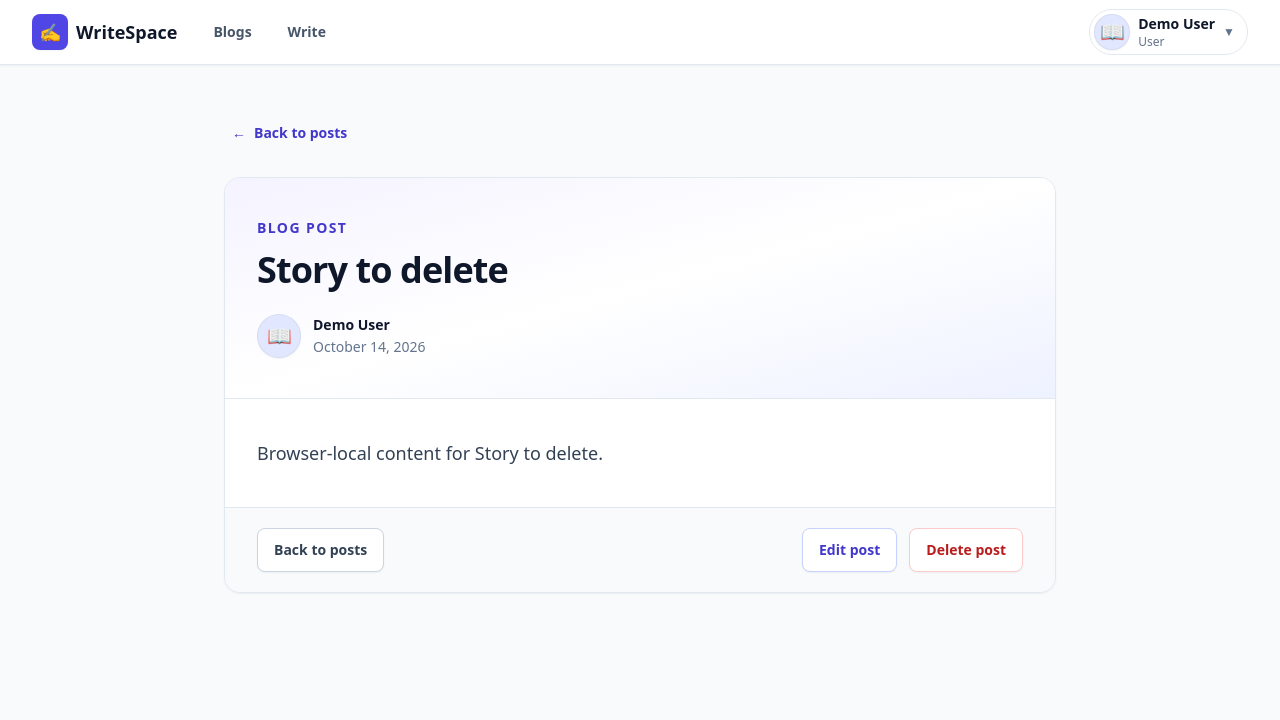
Test case: Blog feature flows › requires deletion confirmation and removes the post only after approval
The image size is (1280, 720).
Click the button "Delete post" at (966, 550), box [909,528,1023,572]
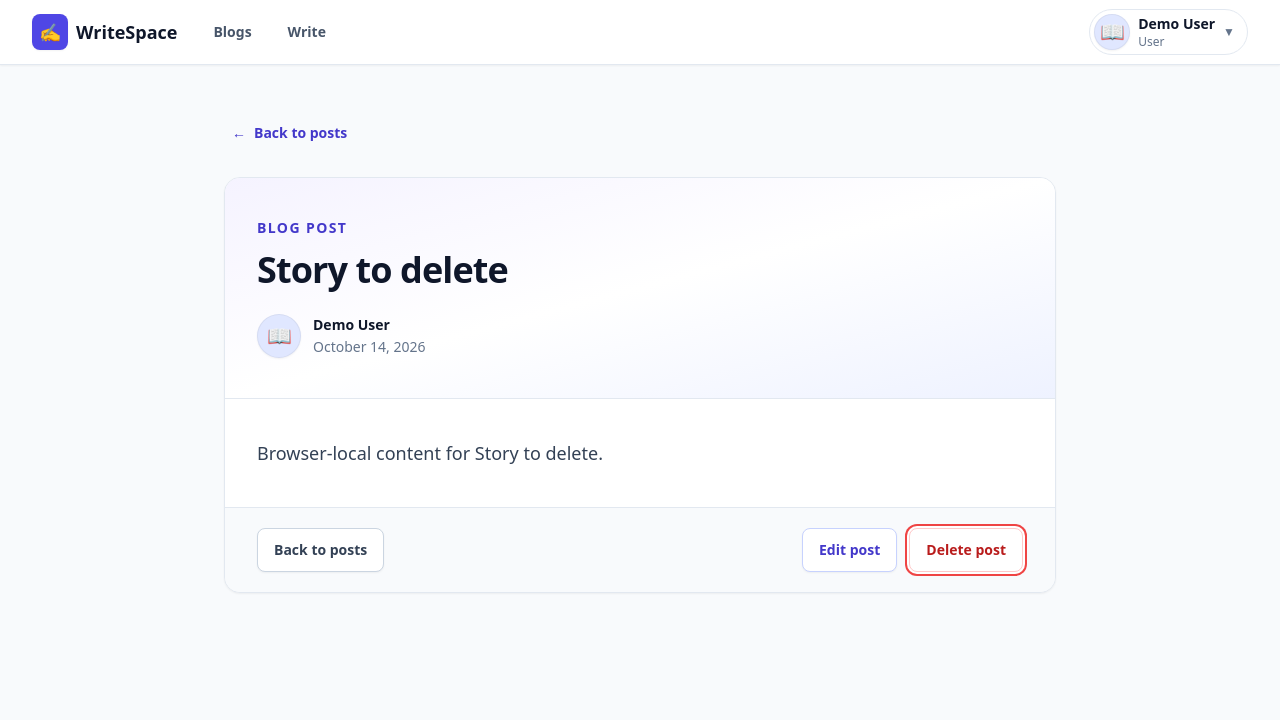
Click the button "Delete post" at (966, 550), box [909,528,1023,572]
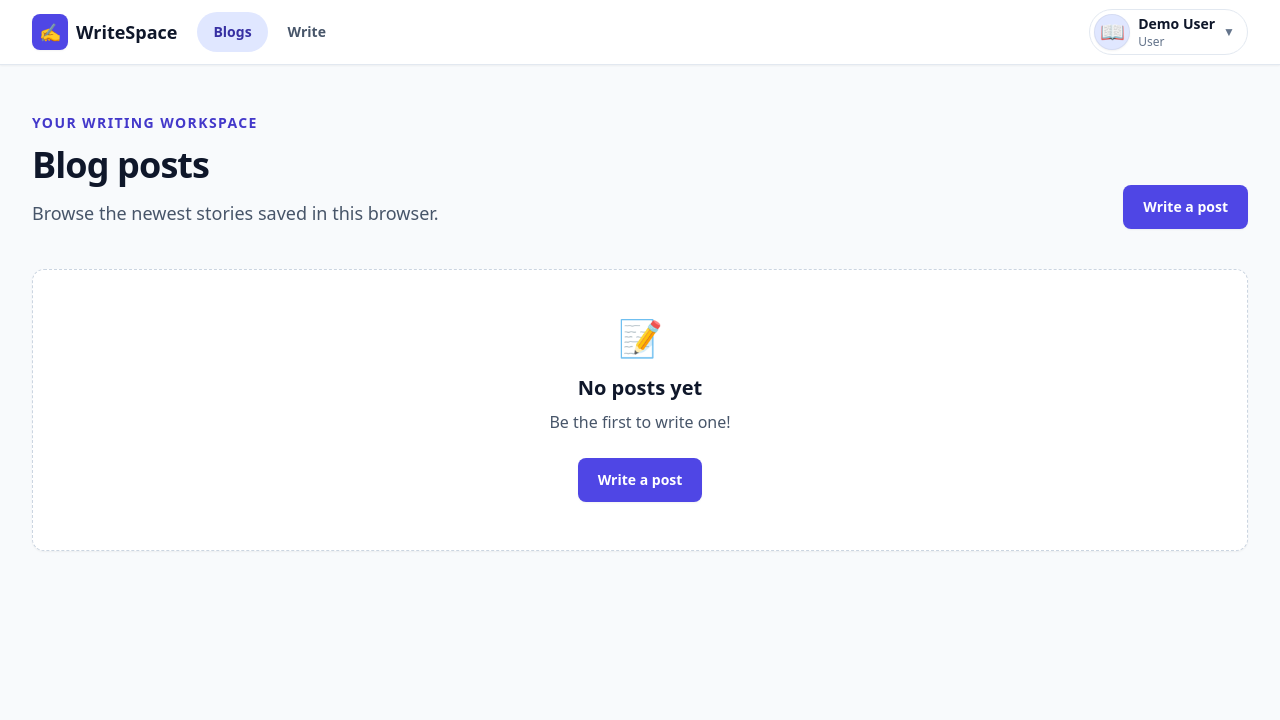
Check: the heading "Blog posts" is shown, box [32,140,209,189]
Check: the heading "No posts yet" is shown, box [578,374,702,401]
